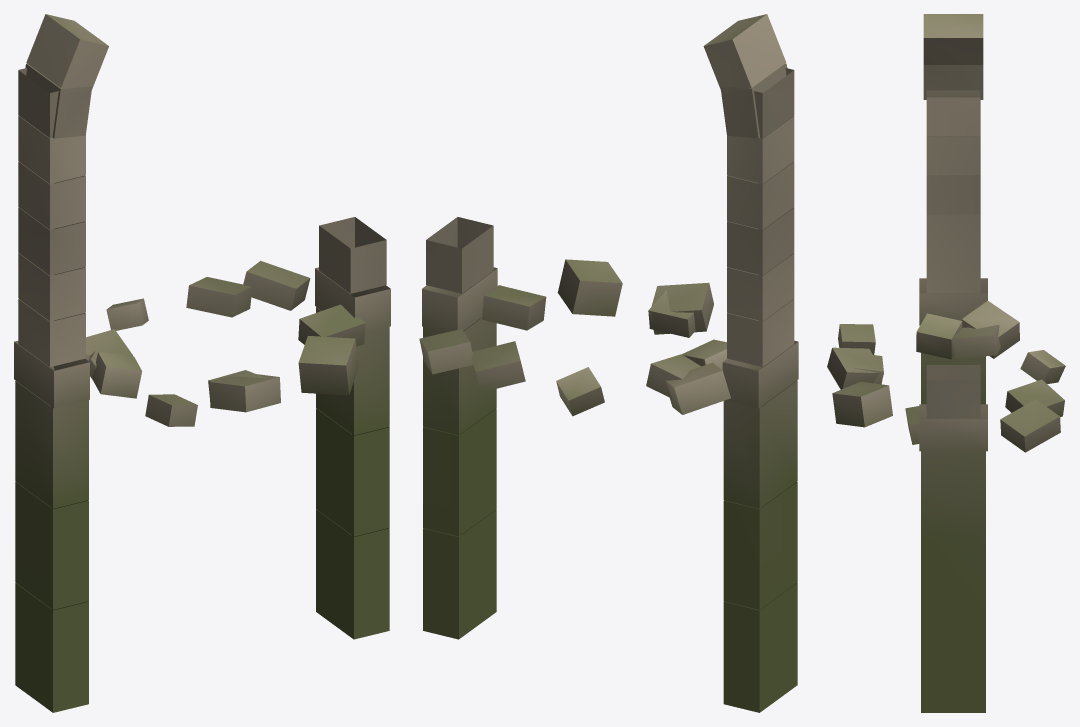
Rendered from sanctuary_arch_broken_mid.glb.
3 views of the same model, side by side, from view 1: azimuth 30°, elevation 25°; view 2: azimuth 150°, elevation 25°; view 3: azimuth 270°, elevation 25° (orthographic). The views are drawn at different scales.
Parts seen in each view (by area): view 1: sanctuary_arch_broken_mid; view 2: sanctuary_arch_broken_mid; view 3: sanctuary_arch_broken_mid.
Boxes of the visible parts, x1,y1,x2,y2 form: sanctuary_arch_broken_mid: [14, 14, 390, 712]; sanctuary_arch_broken_mid: [419, 14, 798, 712]; sanctuary_arch_broken_mid: [827, 14, 1065, 712].
Bounding box in the file's own units: 18.47 × 34.88 × 13.24.
